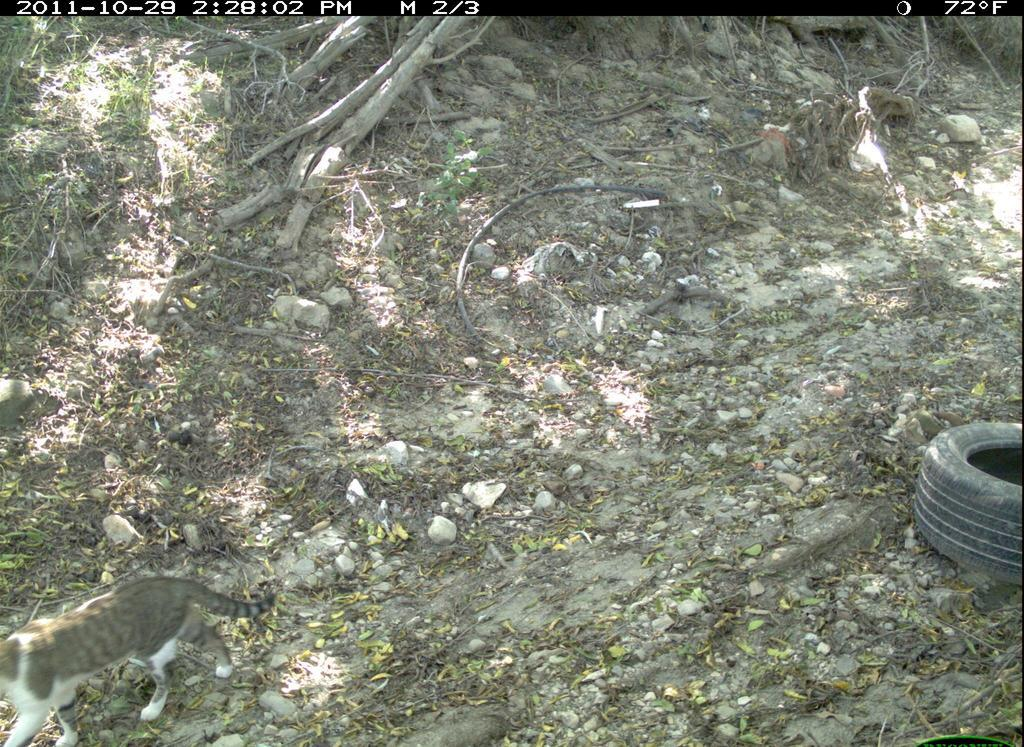cat: (1, 566, 285, 747)
